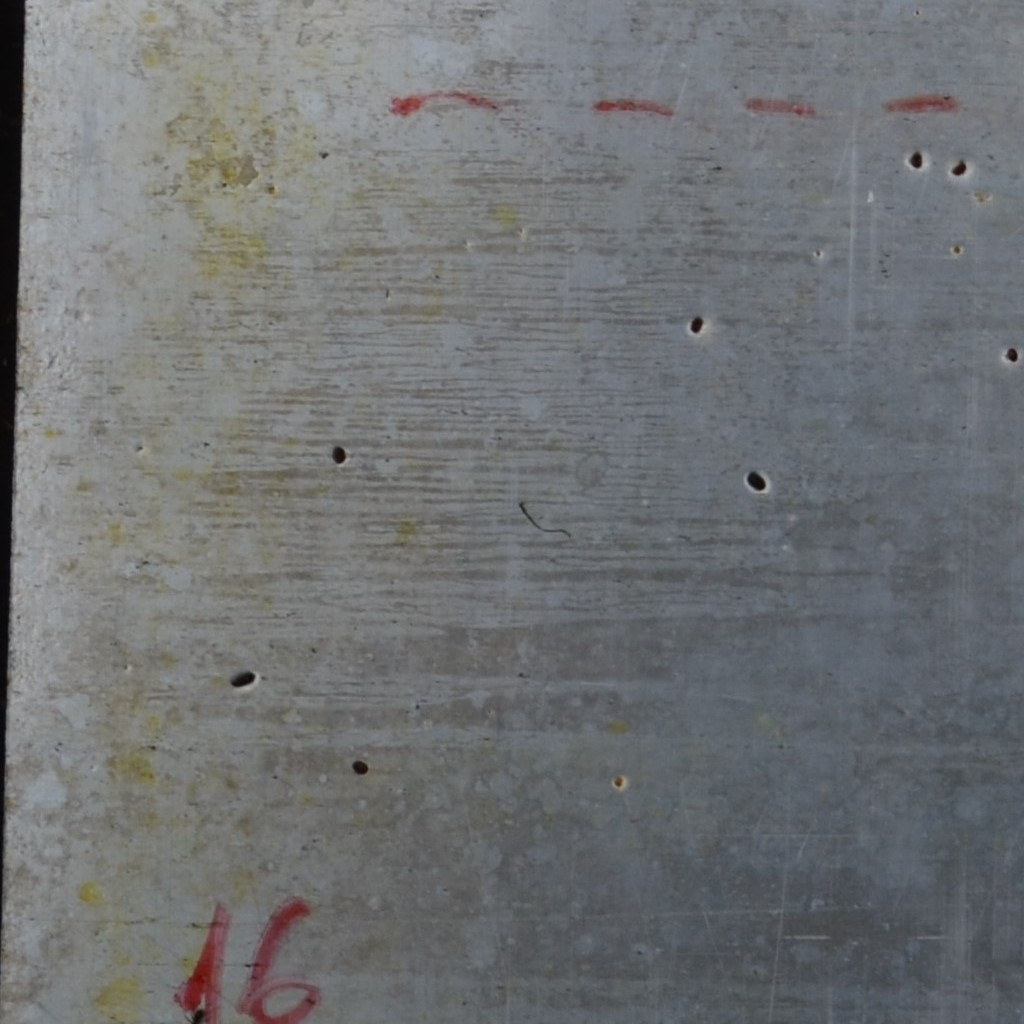varroa: (745, 463, 770, 495), (231, 664, 257, 694), (686, 309, 710, 335), (948, 155, 970, 178), (330, 441, 347, 466), (352, 758, 370, 781), (1005, 342, 1020, 366), (907, 147, 923, 169)
